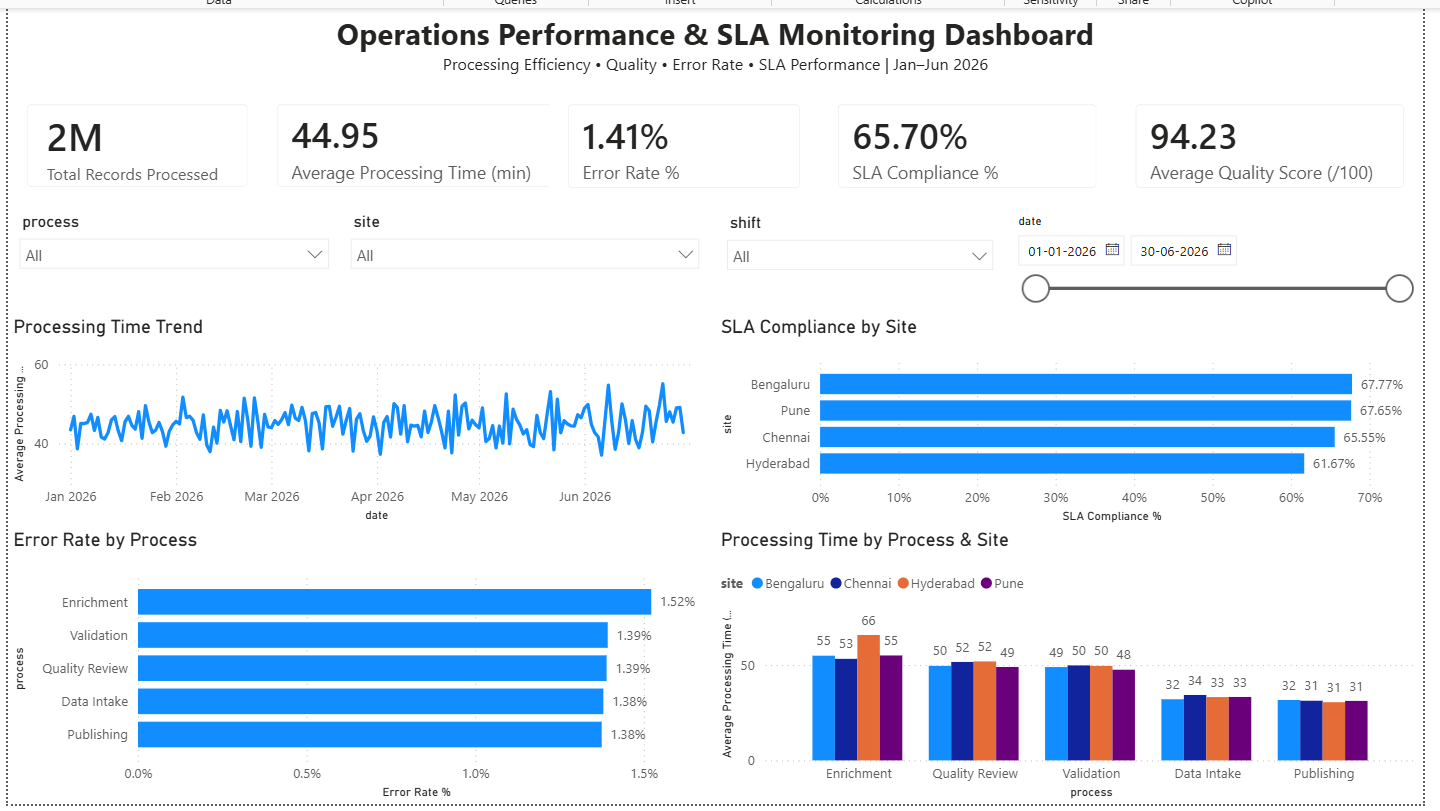

Layout of this report page (visuals, bound fields, positions):
{"tool":"powerbi","page":{"name":"Page 1","canvas":[1280,720],"ordinal":0},"visuals":[{"type":"cardVisual","fields":{"Data":["operations_clean.Total Records Processed"]},"box":[0,70,234.3,110],"z":0},{"type":"cardVisual","fields":{"Data":["operations_clean.Average Processing Time"]},"box":[234.3,70,255.7,110],"z":1000},{"type":"cardVisual","fields":{"Data":["operations_clean.Error Rate %"]},"box":[490,70,244.3,110],"z":2000},{"type":"cardVisual","fields":{"Data":["operations_clean.SLA Compliance %"]},"box":[734.3,70,268.6,110],"z":3000},{"type":"cardVisual","fields":{"Data":["operations_clean.Average Quality Score"]},"box":[1002.9,70,277.1,110],"z":4000},{"type":"lineChart","title":"Processing Time Trend","fields":{"Y":["operations_clean.Average Processing Time"],"Category":["operations_clean.date"]},"box":[0,278.6,640,191.4],"z":5000},{"type":"clusteredBarChart","title":"SLA Compliance by Site","fields":{"Category":["operations_clean.site"],"Y":["operations_clean.SLA Compliance %"]},"box":[640,278.6,640,191.4],"z":6000},{"type":"clusteredBarChart","title":"Error Rate by Process","fields":{"Category":["operations_clean.process"],"Y":["operations_clean.Error Rate %"]},"box":[0,470,640,250],"z":7000},{"type":"clusteredColumnChart","title":"Processing Time by Process & Site","fields":{"Category":["operations_clean.process"],"Y":["operations_clean.Average Processing Time"],"Series":["operations_clean.site"]},"box":[640,470,640,250],"z":8000},{"type":"slicer","fields":{"Values":["operations_clean.site"]},"box":[300,180,335.7,98.6],"z":9000},{"type":"slicer","fields":{"Values":["operations_clean.process"]},"box":[0,180,300,98.6],"z":10000},{"type":"slicer","fields":{"Values":["operations_clean.shift"]},"box":[640,181.4,261.4,97.1],"z":11000},{"type":"slicer","fields":{"Values":["operations_clean.date"]},"box":[901.4,181.4,378.6,97.1],"z":12000},{"type":"textbox","box":[0,0,1280,70],"z":12001}]}

Visuals, with their boxes on the page's 1280x720 design canvas (x1, y1, x2, y2). These are canvas units, not pixel positions in the 1440x811 screenshot, which may show the page scaled, cropped or inside an application window:
cardVisual - operations_clean.Total Records Processed: 0/70/234/180
cardVisual - operations_clean.Average Processing Time: 234/70/490/180
cardVisual - operations_clean.Error Rate %: 490/70/734/180
cardVisual - operations_clean.SLA Compliance %: 734/70/1003/180
cardVisual - operations_clean.Average Quality Score: 1003/70/1280/180
"Processing Time Trend" lineChart: 0/279/640/470
"SLA Compliance by Site" clusteredBarChart: 640/279/1280/470
"Error Rate by Process" clusteredBarChart: 0/470/640/720
"Processing Time by Process & Site" clusteredColumnChart: 640/470/1280/720
slicer - operations_clean.site: 300/180/636/279
slicer - operations_clean.process: 0/180/300/279
slicer - operations_clean.shift: 640/181/901/278
slicer - operations_clean.date: 901/181/1280/278
textbox: 0/0/1280/70
